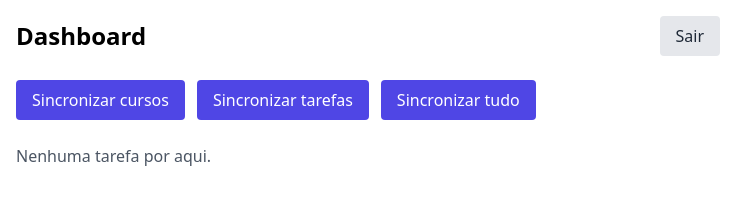
Scenario: DashboardView › erro no sync exibe feedback de erro e não dispara refresh do dashboard
The image size is (737, 207).
Click the button with test id "sync-button" showing "Sincronizar cursos".
click(100, 100)  # box [16,80,185,120]
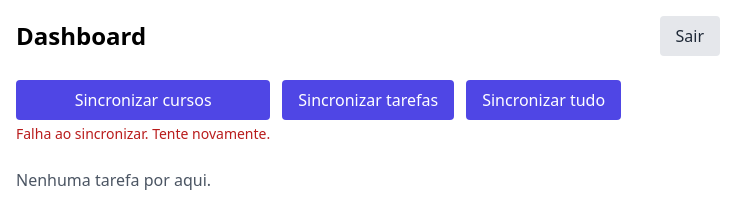
Expected: the text "Falha ao sincronizar. Tente novamente." is shown, [16,124,270,144]
